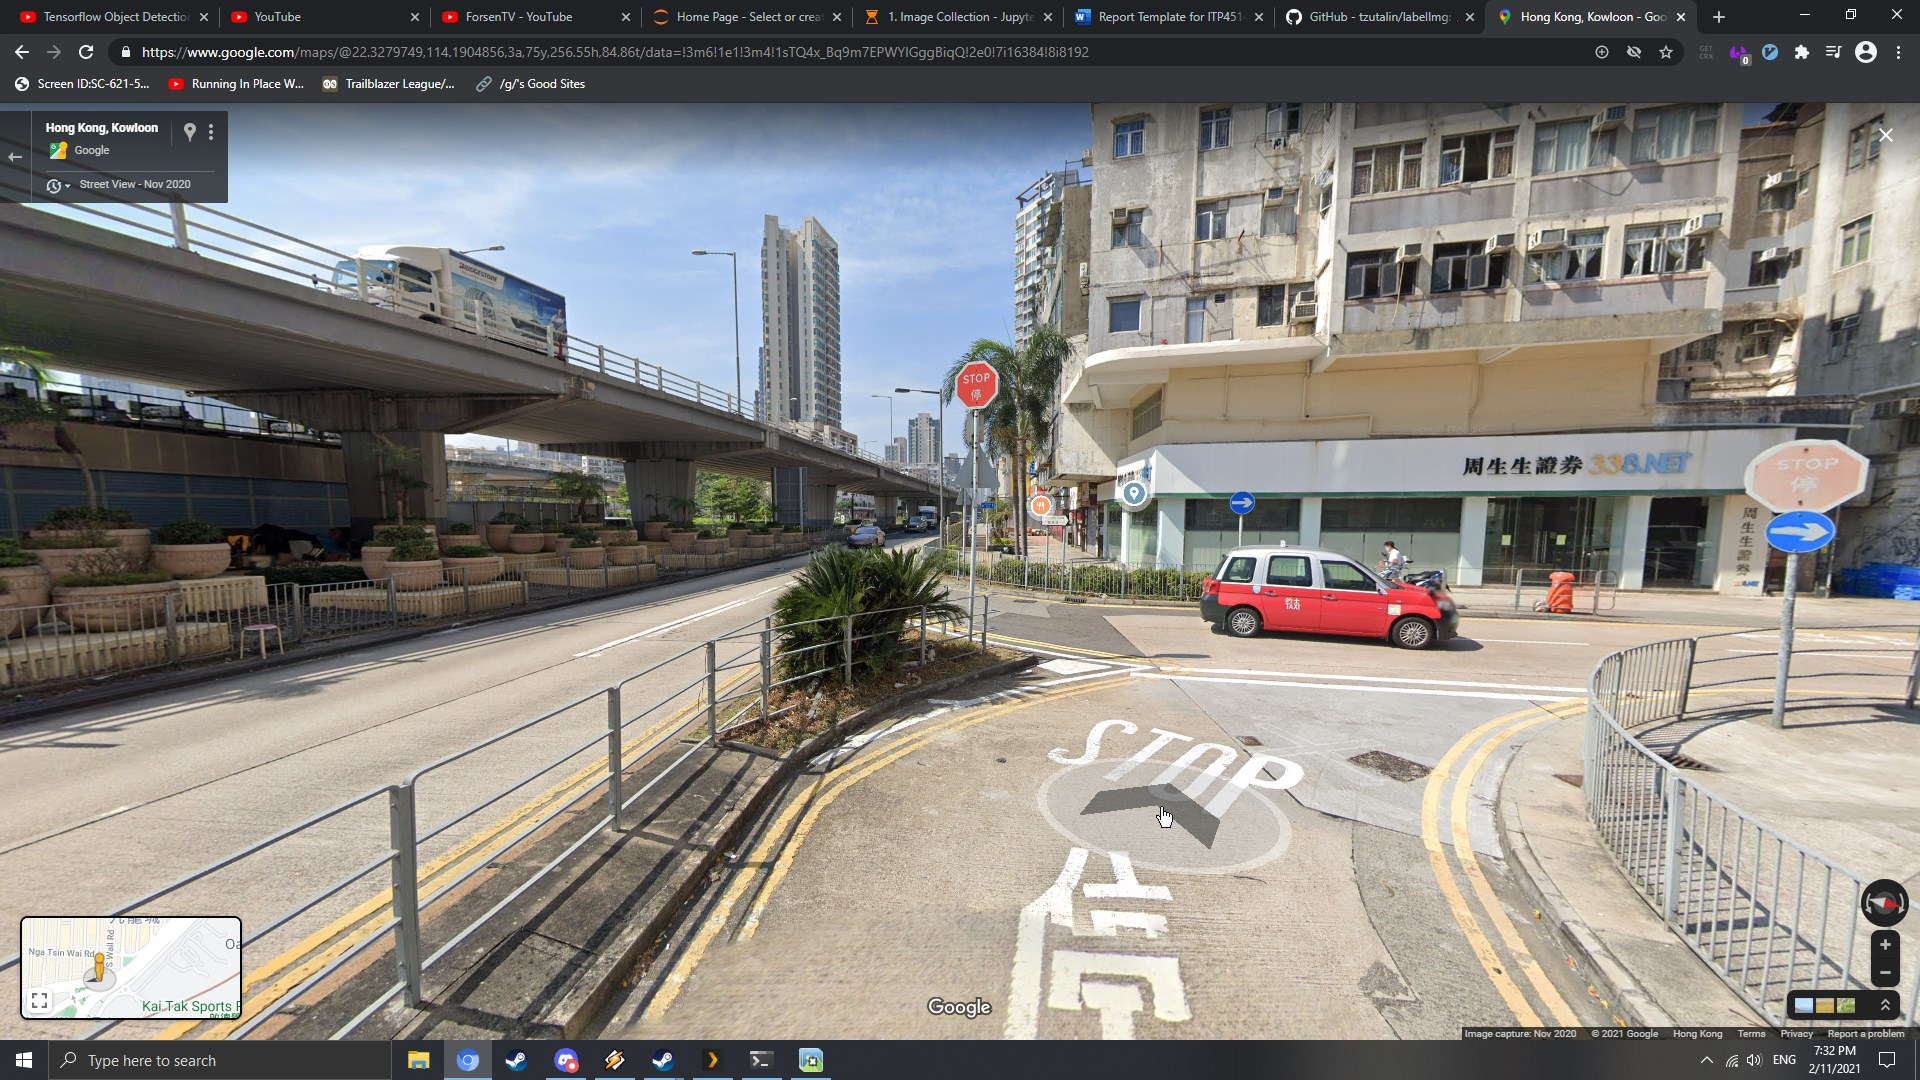Stop: (1745, 439, 1871, 513), (955, 360, 1000, 409)
